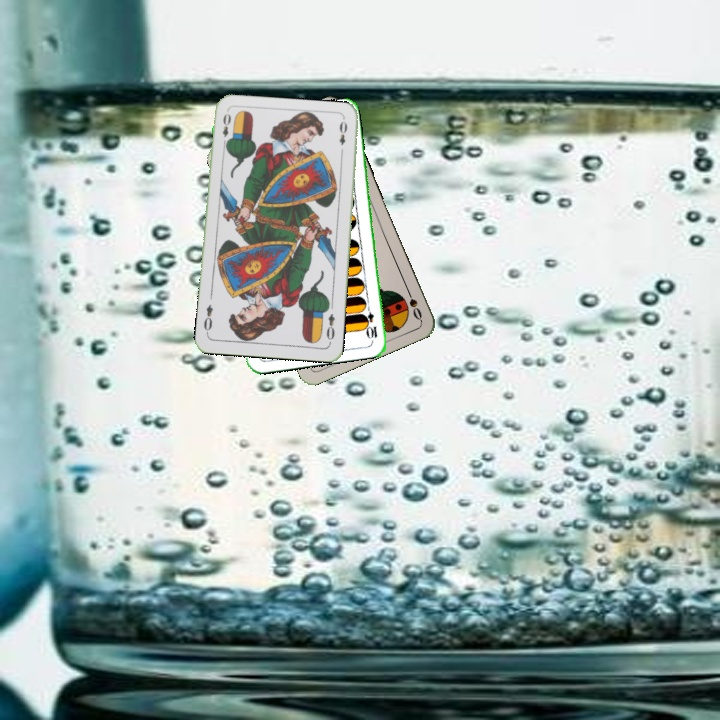E10: (363, 300, 380, 341)
EO: (218, 110, 233, 149), (322, 310, 338, 342)
SO: (402, 284, 424, 323)
